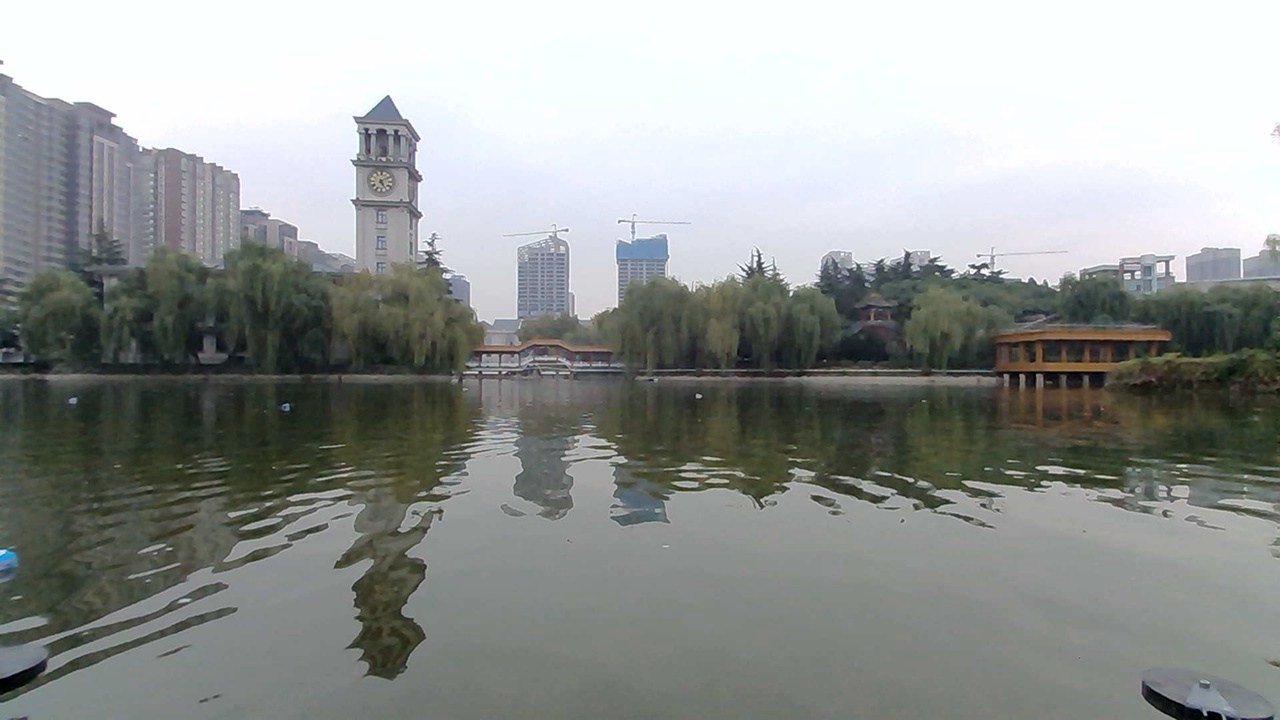bottle: (58, 386, 94, 410), (266, 396, 300, 418), (687, 387, 723, 406)
